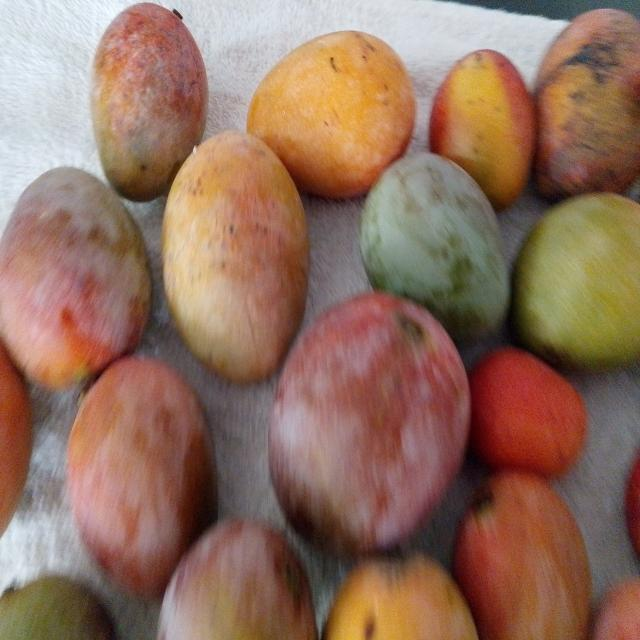mango: (267, 292, 472, 557), (158, 128, 314, 384), (0, 160, 163, 383), (63, 353, 214, 587), (362, 147, 515, 347), (247, 31, 415, 198), (91, 3, 208, 200), (460, 466, 590, 640), (518, 189, 640, 368), (535, 5, 640, 203), (429, 50, 536, 211), (471, 340, 594, 475)
